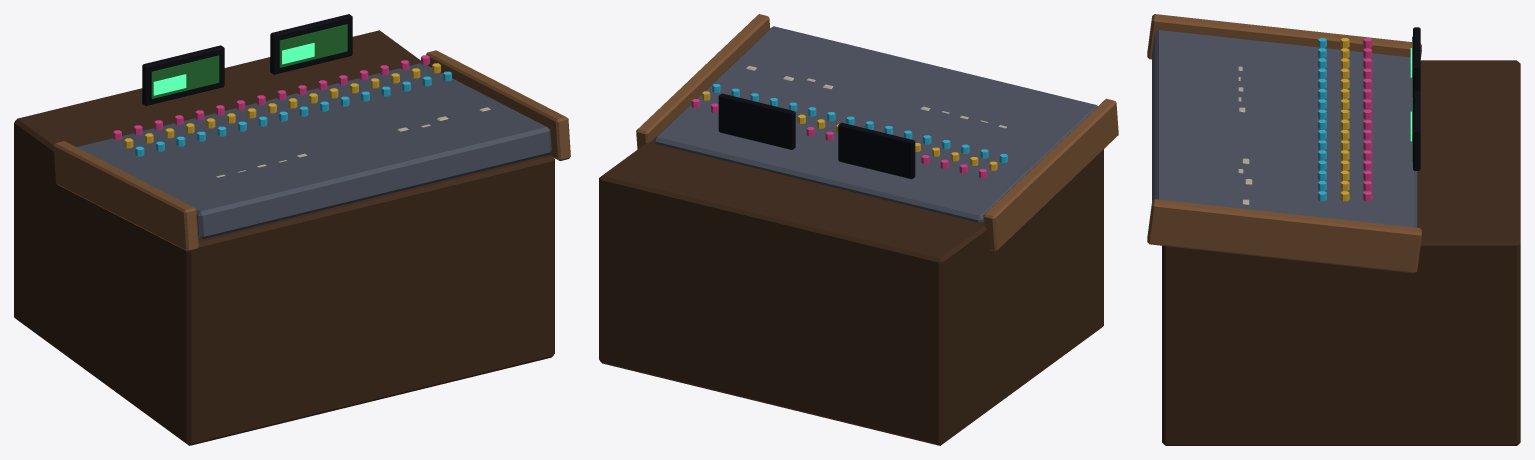
Rendered from mesa_som.glb.
3 renders of one model, left to right at view 1: azimuth 30°, elevation 25°; view 2: azimuth 150°, elevation 25°; view 3: azimuth 270°, elevation 25°, orthographic. The views are drawn at different scales.
Visible parts, largest first — view 1: Cube; view 2: Cube; view 3: Cube.
Boxes of the visible parts, x1,y1,x2,y2 form: Cube: (14, 14, 570, 445); Cube: (599, 14, 1118, 445); Cube: (1147, 14, 1520, 445).
Bounding box in the file's own units: 1.2 × 0.81 × 0.9889.
